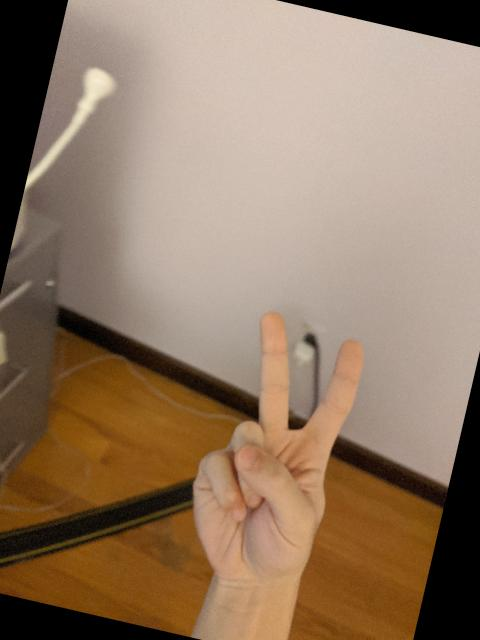V: (168, 298, 375, 601)
